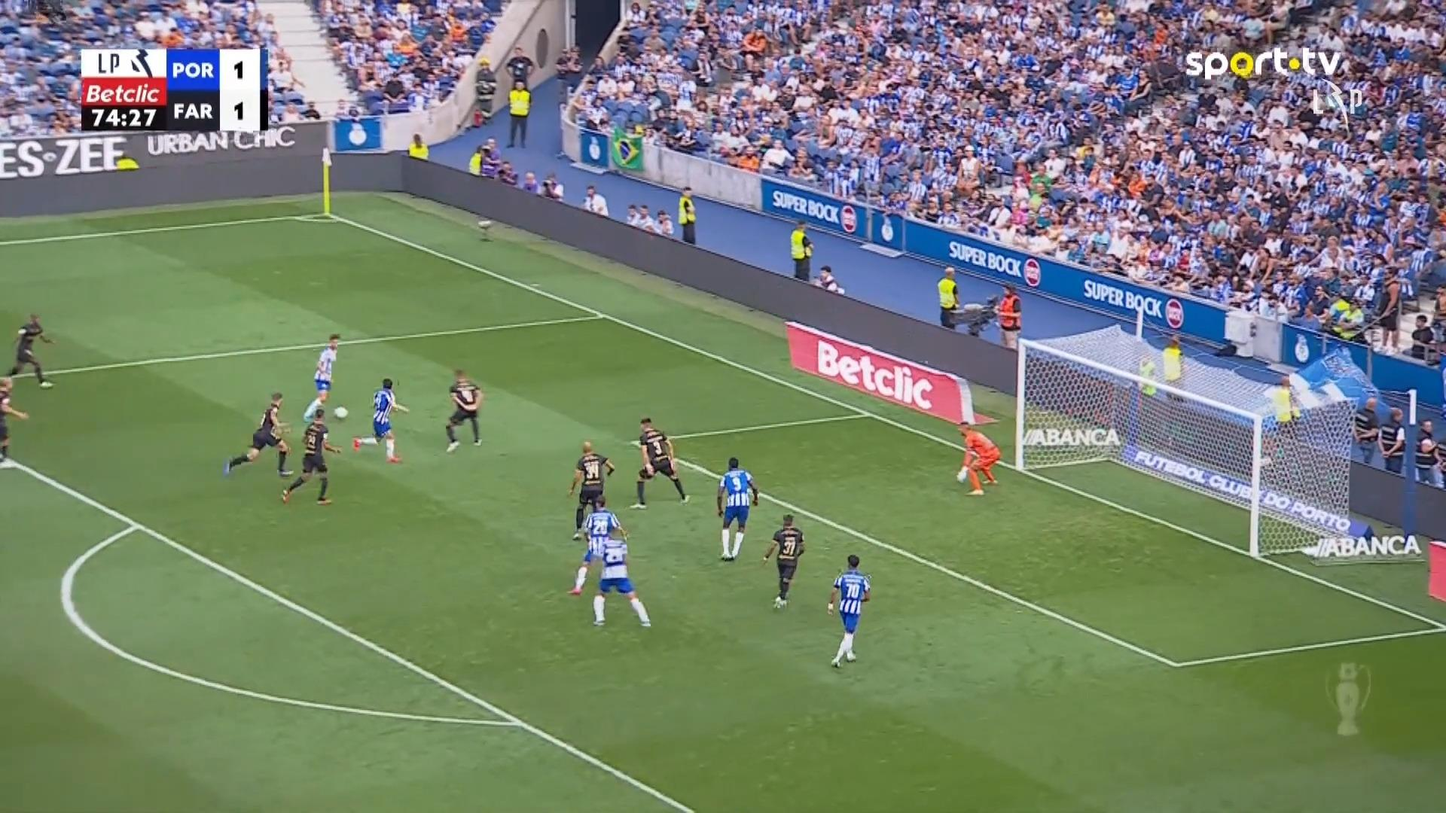ball: (333, 406, 347, 419)
goalkeeper: (955, 419, 1001, 495)
player: (567, 494, 651, 628), (221, 391, 295, 478), (279, 406, 342, 505), (629, 416, 690, 509), (826, 553, 871, 668), (352, 376, 410, 463), (566, 440, 615, 540), (715, 455, 758, 561), (761, 513, 805, 609), (6, 312, 55, 388), (301, 332, 340, 425), (444, 368, 484, 452), (0, 376, 29, 467)
